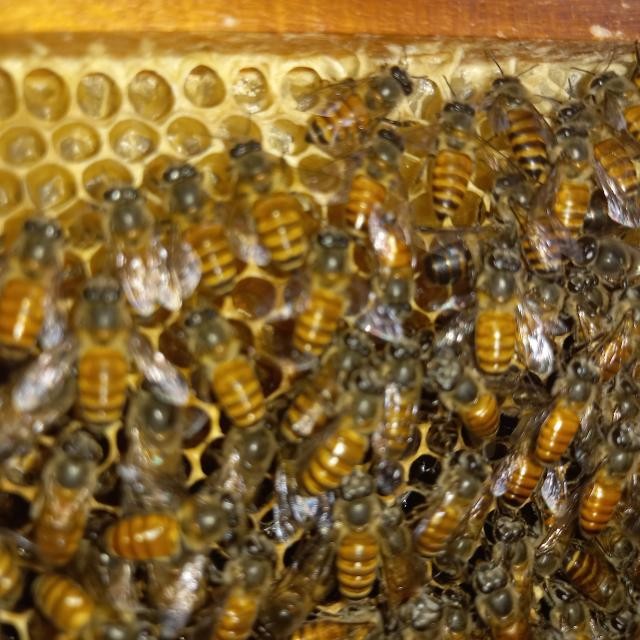honeybee: (224, 128, 321, 263), (75, 173, 180, 287), (175, 297, 272, 413), (30, 400, 103, 543), (476, 517, 560, 640), (298, 77, 467, 137), (355, 120, 426, 250), (316, 360, 381, 500), (42, 541, 132, 640), (336, 471, 398, 612), (182, 438, 276, 530), (440, 81, 500, 225), (107, 482, 210, 560), (171, 152, 235, 276), (302, 308, 364, 434), (124, 368, 186, 492), (486, 60, 546, 186), (550, 128, 618, 235), (224, 530, 286, 640), (11, 208, 79, 308), (582, 56, 633, 186), (445, 344, 511, 443), (556, 520, 620, 622), (381, 334, 424, 481), (70, 278, 128, 383), (513, 182, 567, 291), (417, 443, 466, 560), (473, 272, 522, 383), (582, 222, 640, 312), (535, 366, 571, 486), (592, 402, 624, 528)
